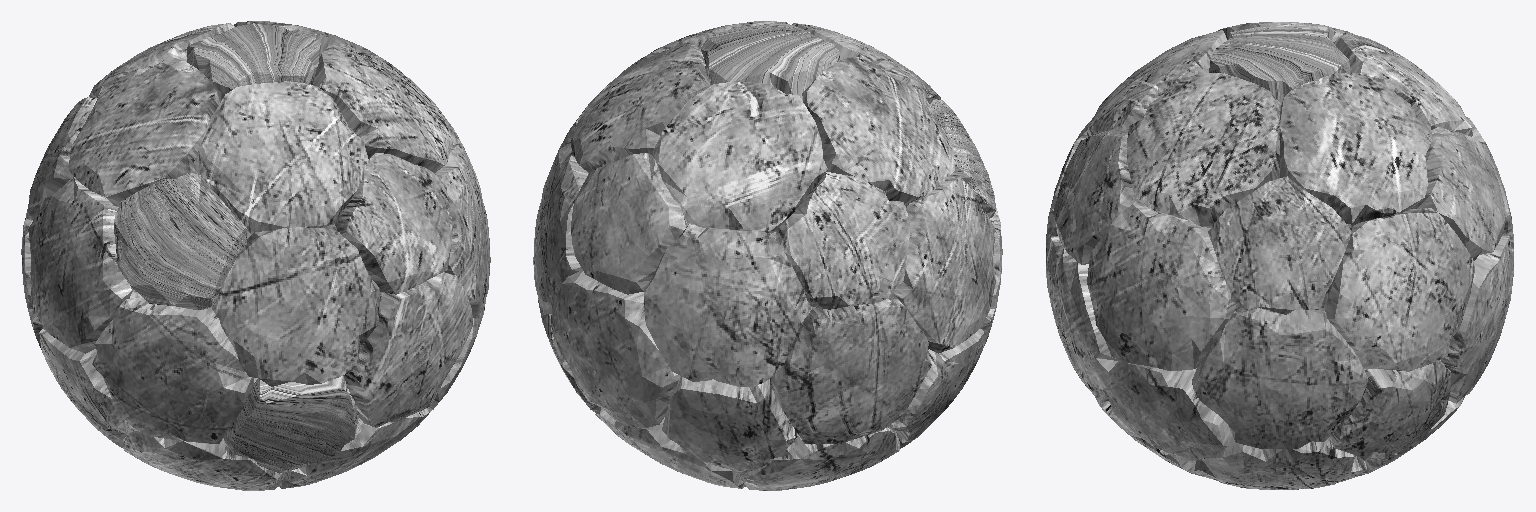
The picture shows the model from 3 angles: view 1: azimuth 30°, elevation 25°; view 2: azimuth 150°, elevation 25°; view 3: azimuth 270°, elevation 25°; orthographic projection.
Parts seen in each view (by area): view 1: uploads_files_[number redacted]_soccer_ball:Mesh; view 2: uploads_files_[number redacted]_soccer_ball:Mesh; view 3: uploads_files_[number redacted]_soccer_ball:Mesh.
Boxes of the visible parts, <box> form: uploads_files_[number redacted]_soccer_ball:Mesh: <box>21,21,490,490</box>; uploads_files_[number redacted]_soccer_ball:Mesh: <box>533,21,1002,490</box>; uploads_files_[number redacted]_soccer_ball:Mesh: <box>1046,22,1513,489</box>.
Bounding box in the file's own units: 1.84 × 1.84 × 1.84.
1 materials, 1 textured.